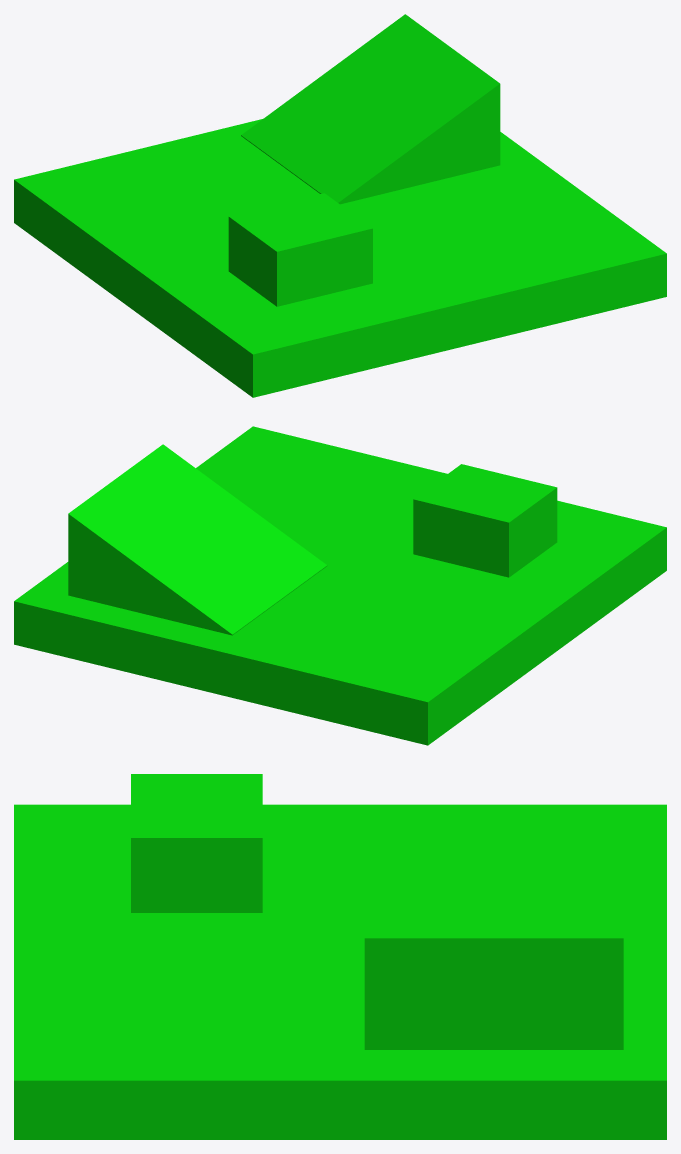
File: playground.fbx
3 views of the same model, one above another, from view 1: azimuth 30°, elevation 25°; view 2: azimuth 150°, elevation 25°; view 3: azimuth 270°, elevation 25° (orthographic). The views are drawn at different scales.
Parts seen in each view (by area): view 1: Cube; view 2: Cube; view 3: Cube.
Part boxes in pixels (x1,y1,x2,y2): Cube: (14,14,666,397); Cube: (14,426,666,745); Cube: (14,774,666,1139).
Size of the model in its own units: 2000 by 595 by 2000.
